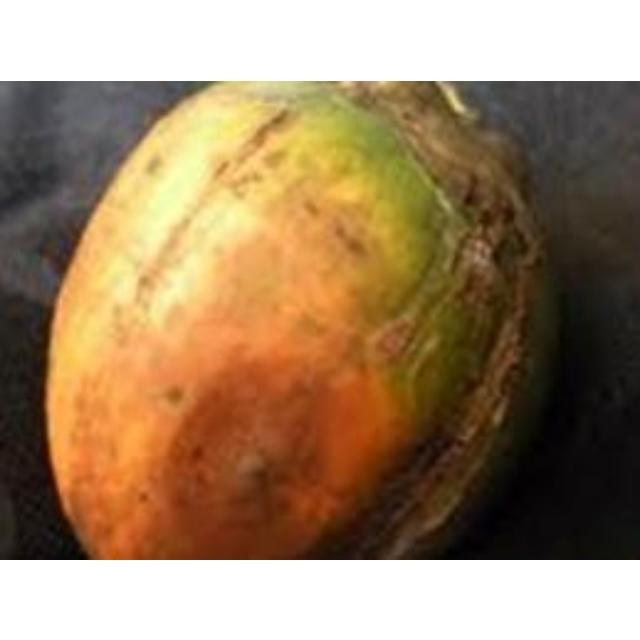damaged: (42, 80, 561, 557)
